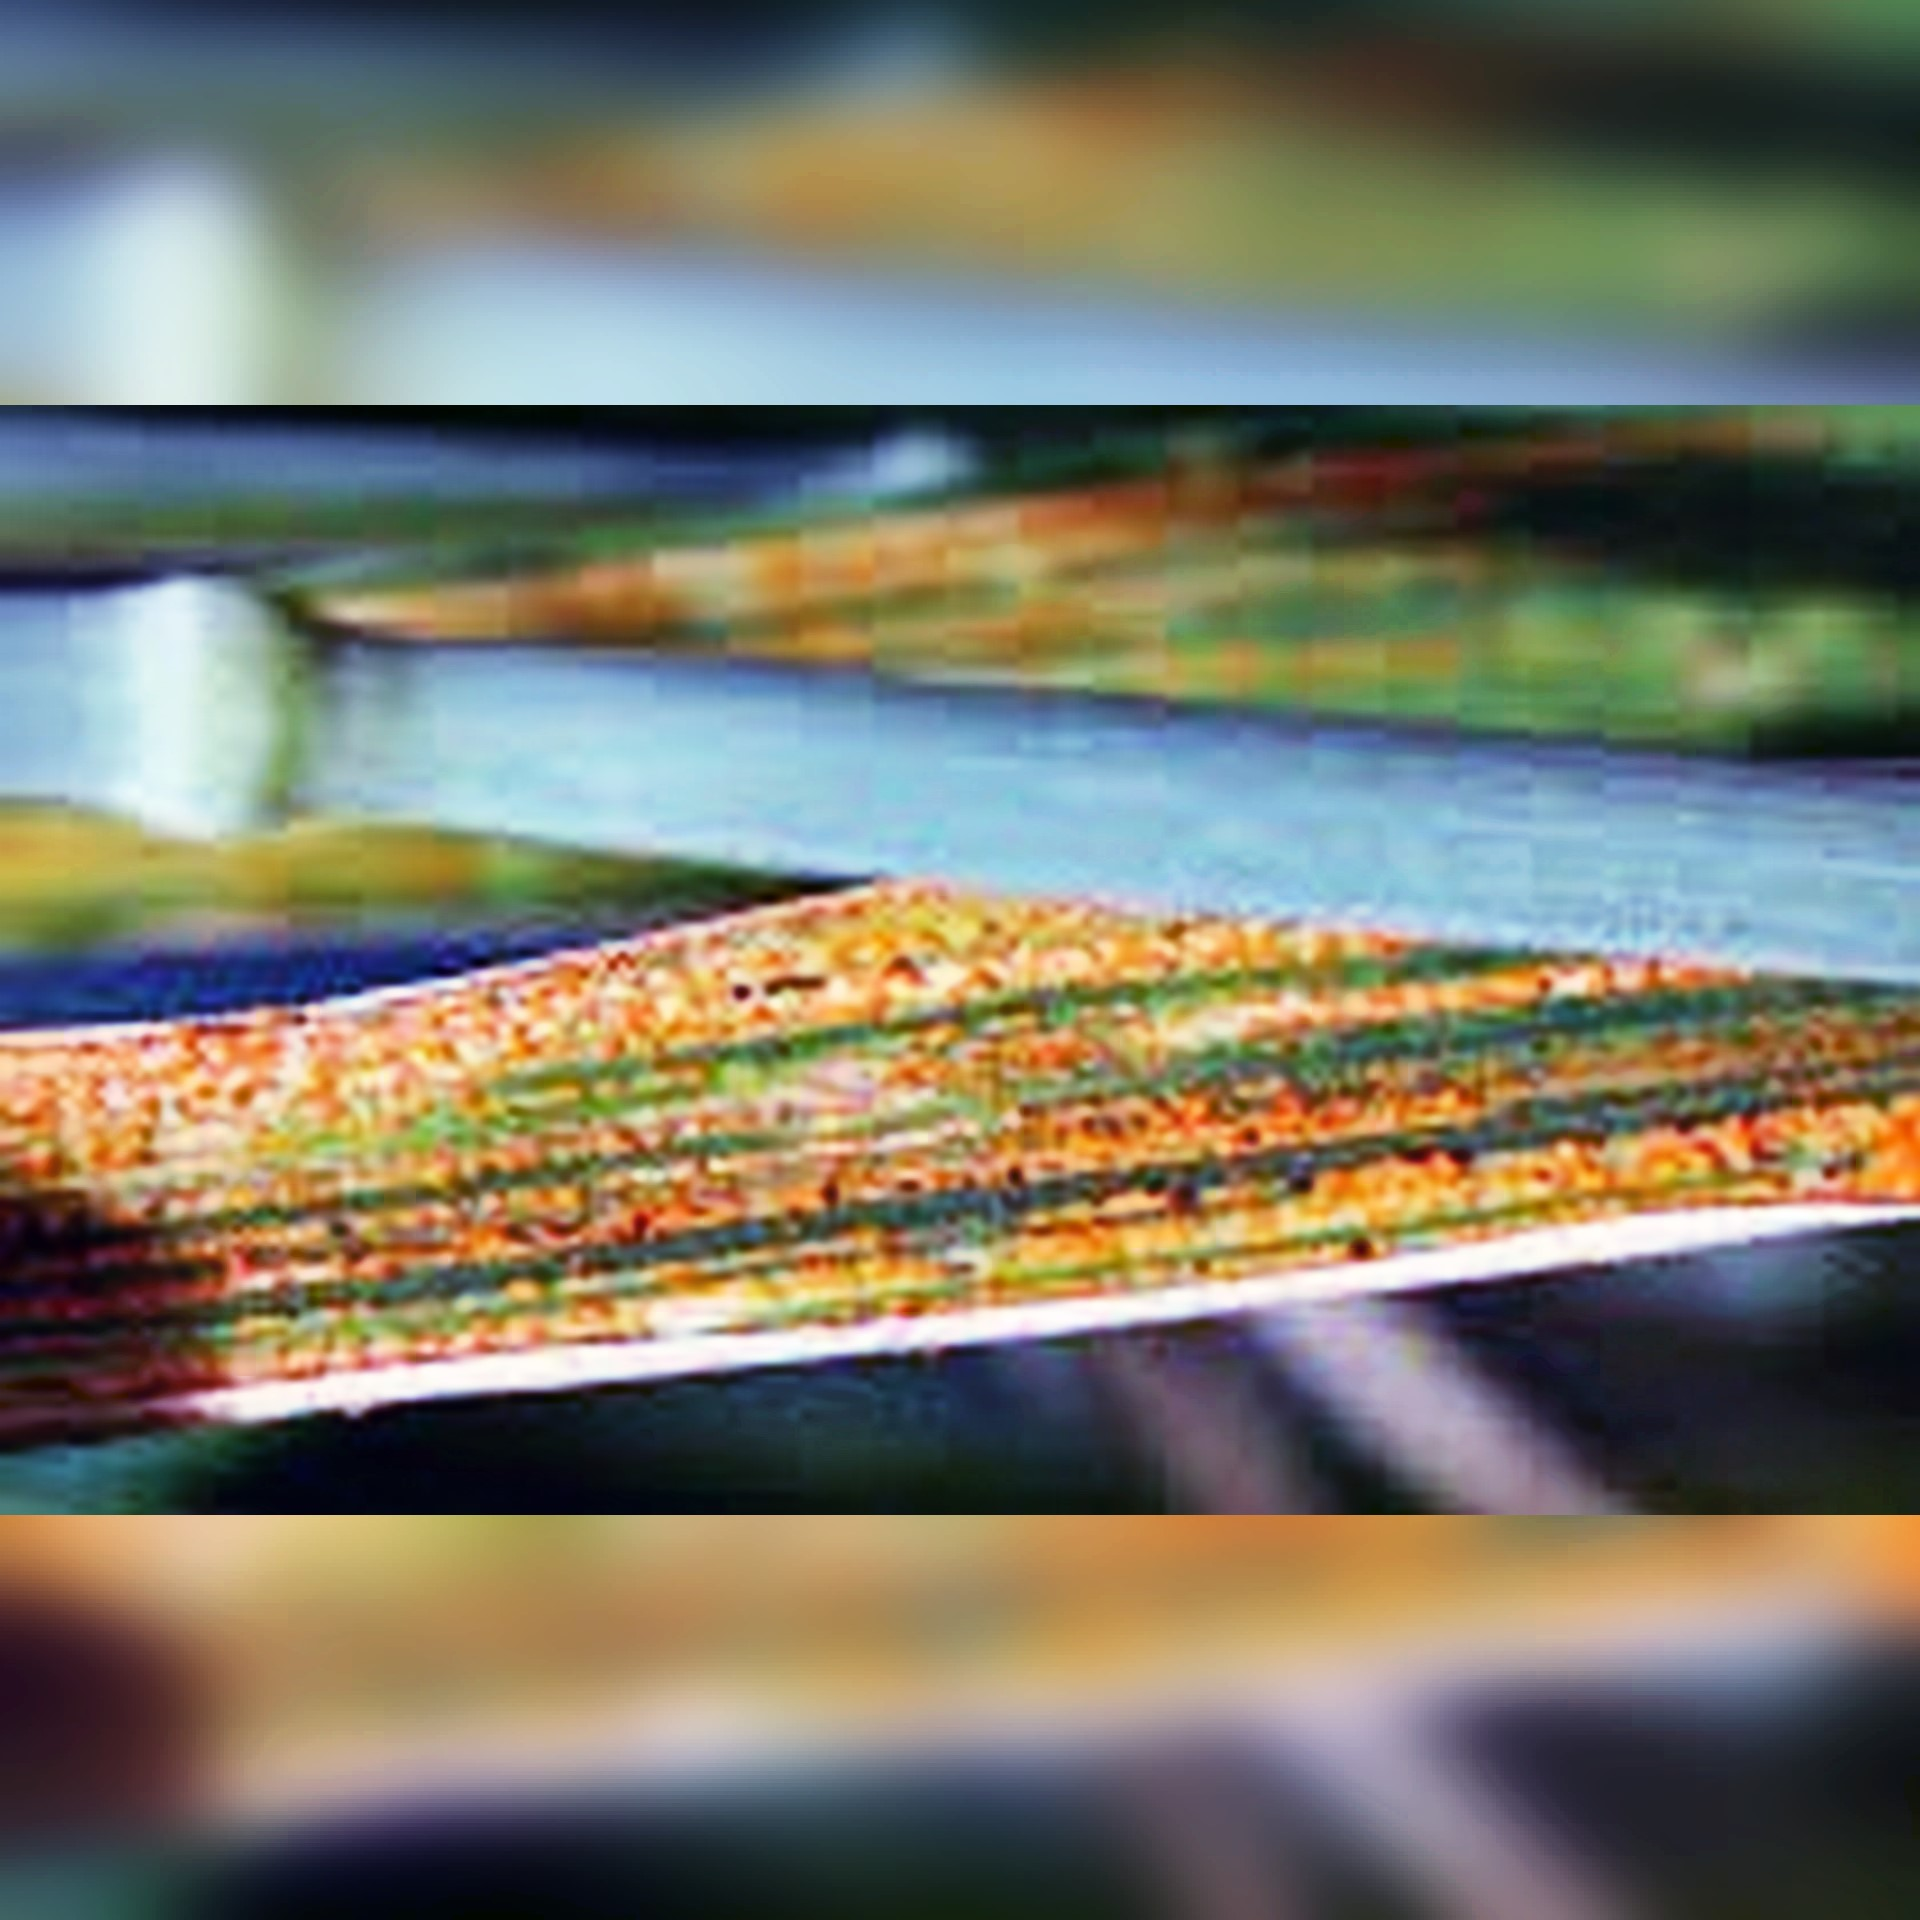Leaf Rust: (44, 874, 1802, 1412)
